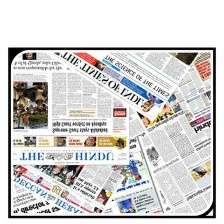news_paper: (9, 44, 128, 165), (39, 50, 202, 121), (137, 103, 223, 215), (120, 51, 212, 145), (10, 163, 122, 217), (104, 131, 166, 216)
